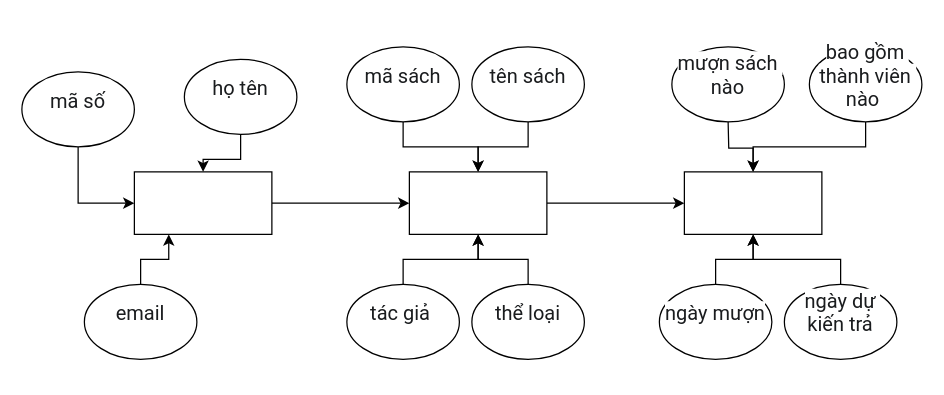
The diagram is 944 pixels wide and 395 high, and some of its shapes have lost their labels. Here are the shapes that lost their labels. From the top down, the box of each, then its label:
(133, 171, 272, 234): Member
(408, 171, 547, 234): Book
(683, 171, 822, 234): Borrow
